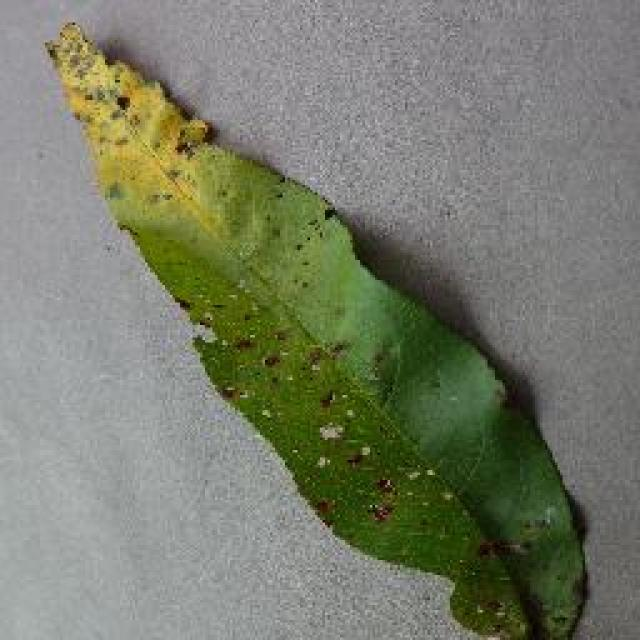Peach_Bacterial_Spot: (43, 21, 397, 422)
